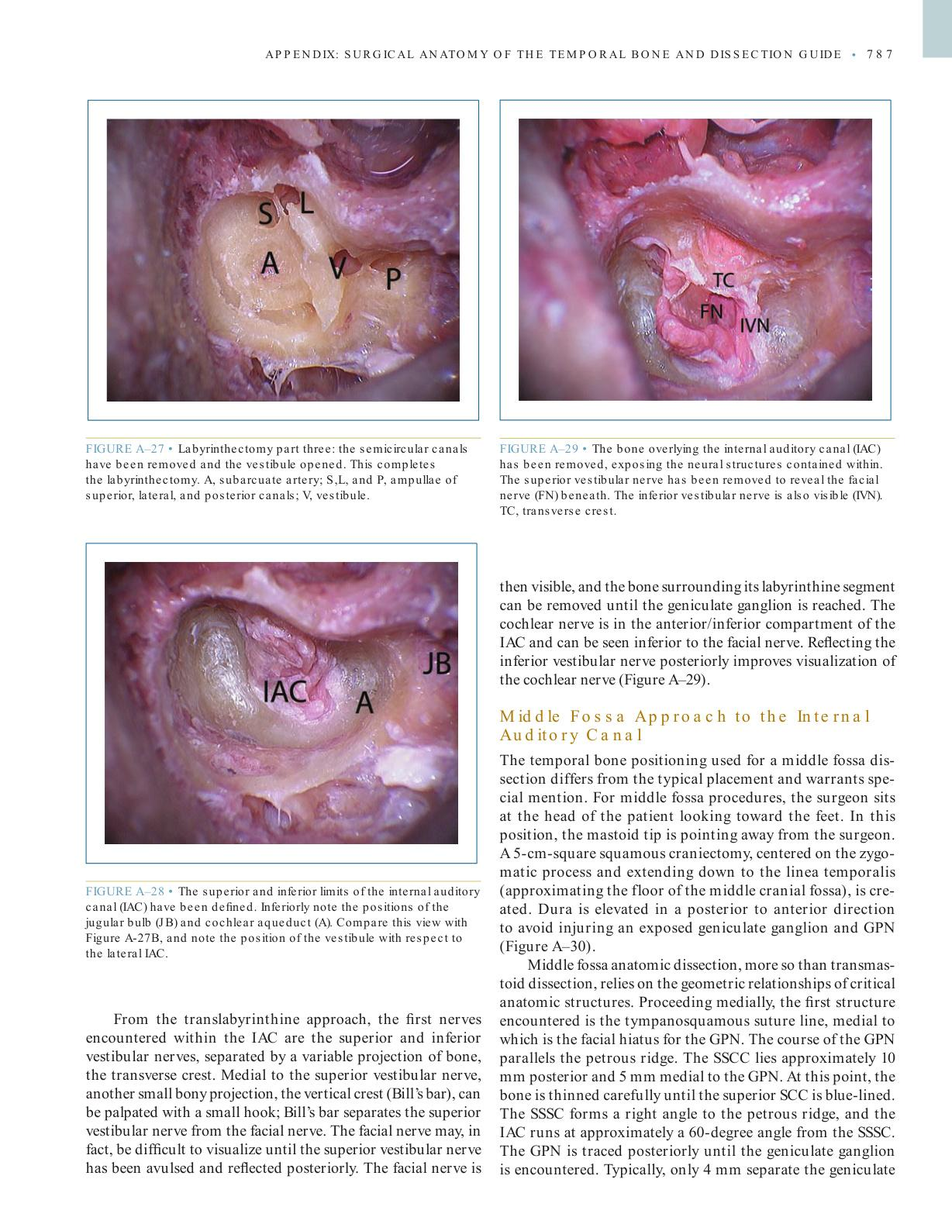caption: (83, 883, 481, 960), (498, 441, 883, 519), (84, 440, 468, 504)
header: (264, 48, 842, 60)
image: (92, 104, 475, 417), (91, 547, 473, 859), (504, 105, 886, 416)
section-heading: (497, 705, 872, 745)
text: (497, 750, 898, 1178), (85, 1011, 483, 1179), (497, 577, 900, 689)
